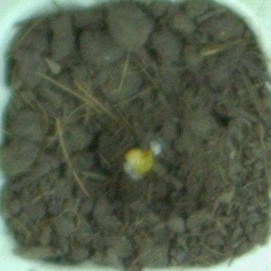pepper seed: (47, 58, 202, 235)
